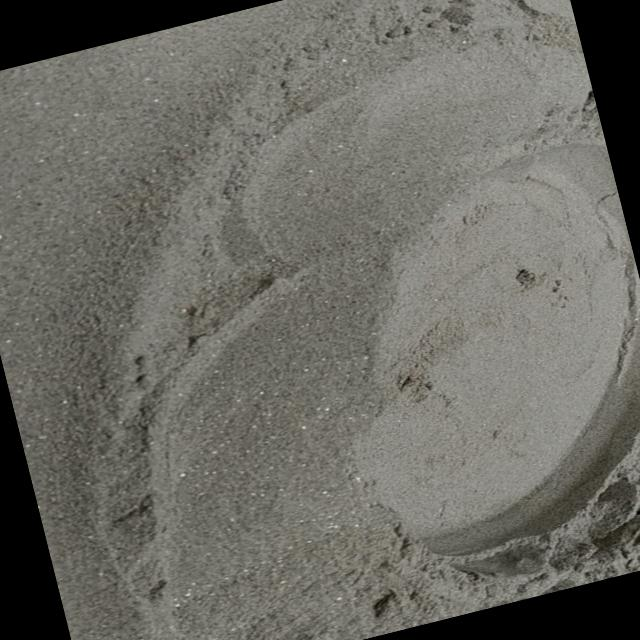C40: (359, 143, 640, 570)
